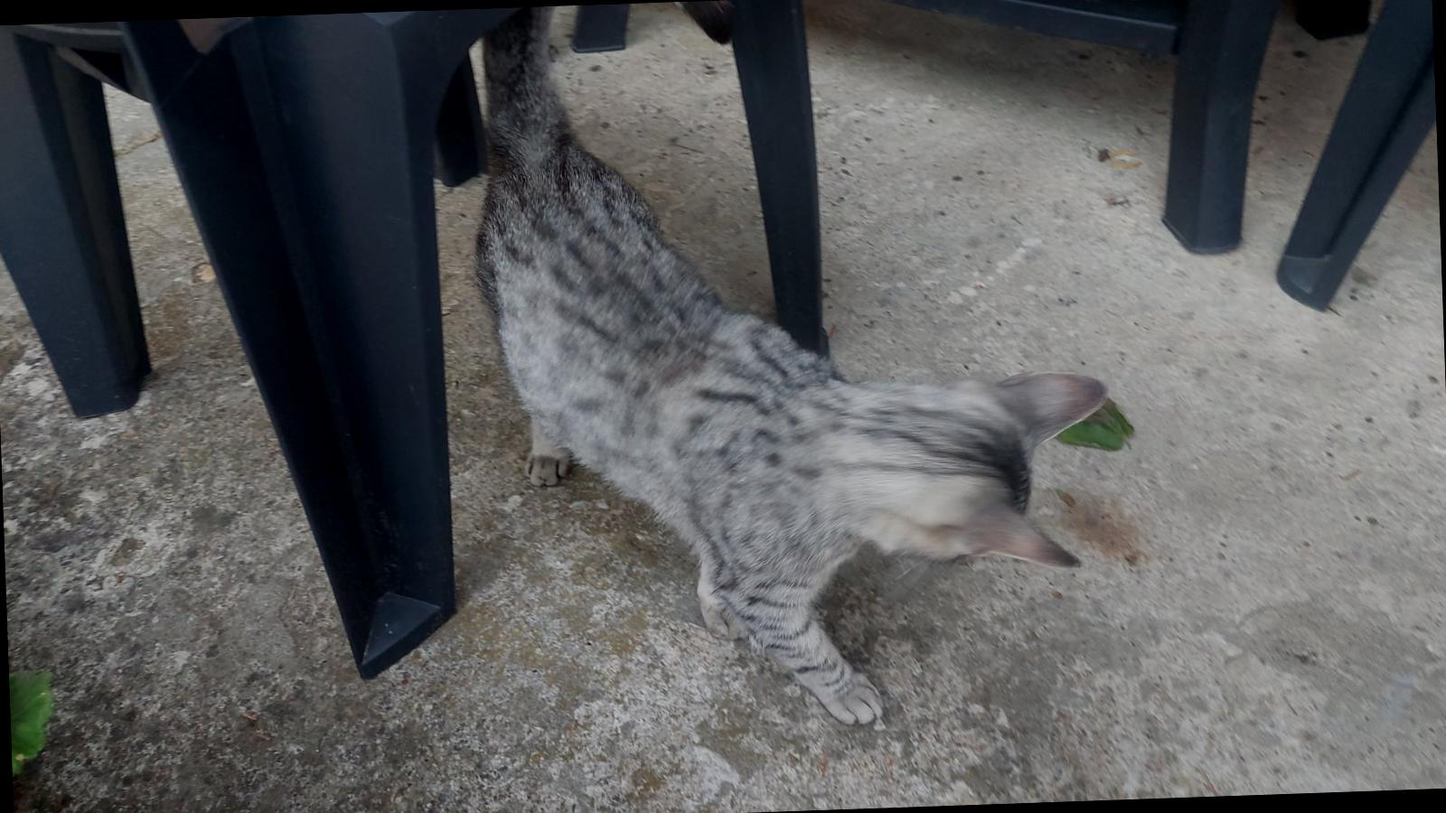macka: (416, 84, 1128, 737)
